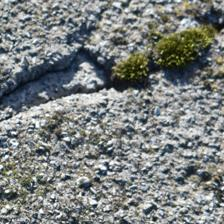Crack: (1, 20, 114, 104)
